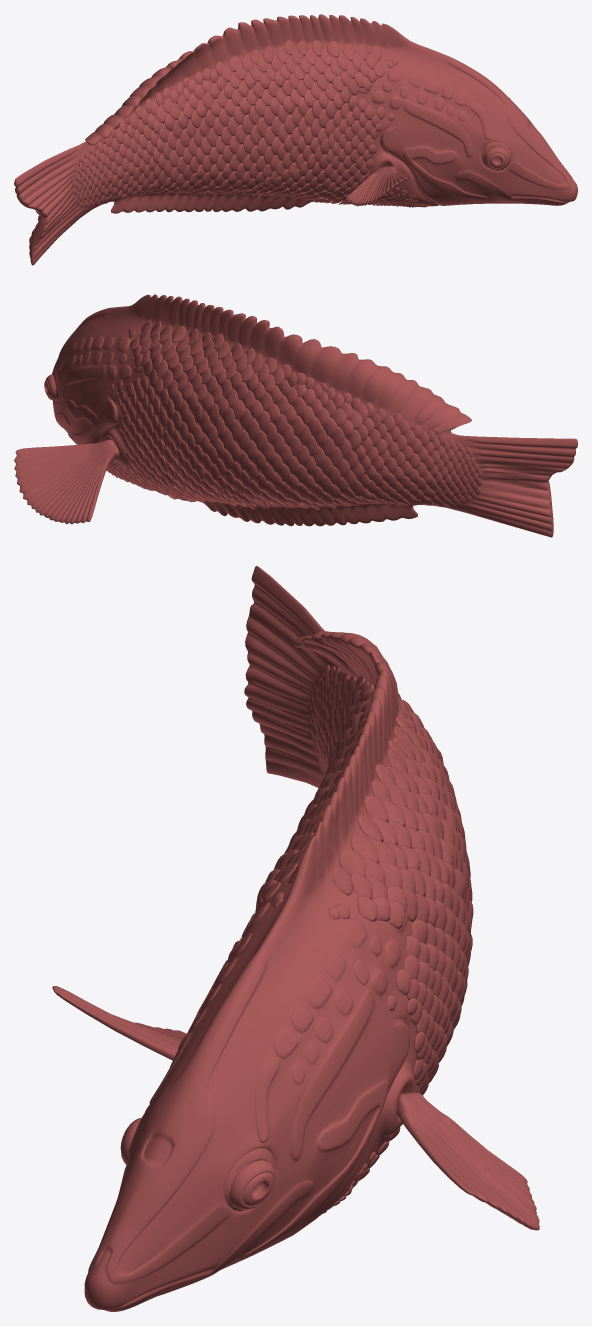
The model's file is fish.fbx.
3 views of the same model, one above another, from view 1: azimuth 30°, elevation 25°; view 2: azimuth 150°, elevation 25°; view 3: azimuth 270°, elevation 25° (orthographic). The views are drawn at different scales.
Visible parts, largest first — view 1: polySurface1, Wraisse_scales_posed_polySurface1; view 2: Wraisse_scales_posed_polySurface1, polySurface1; view 3: polySurface1, Wraisse_scales_posed_polySurface1.
Part boxes in pixels (left/top/right/bottom): polySurface1: left=14, top=14, right=577, bottom=265; Wraisse_scales_posed_polySurface1: left=73, top=40, right=427, bottom=208; Wraisse_scales_posed_polySurface1: left=106, top=320, right=482, bottom=510; polySurface1: left=14, top=294, right=577, bottom=537; polySurface1: left=52, top=566, right=539, bottom=1311; Wraisse_scales_posed_polySurface1: left=233, top=665, right=473, bottom=1213.
Size of the model in its own units: 7.58 by 2.75 by 3.05.
